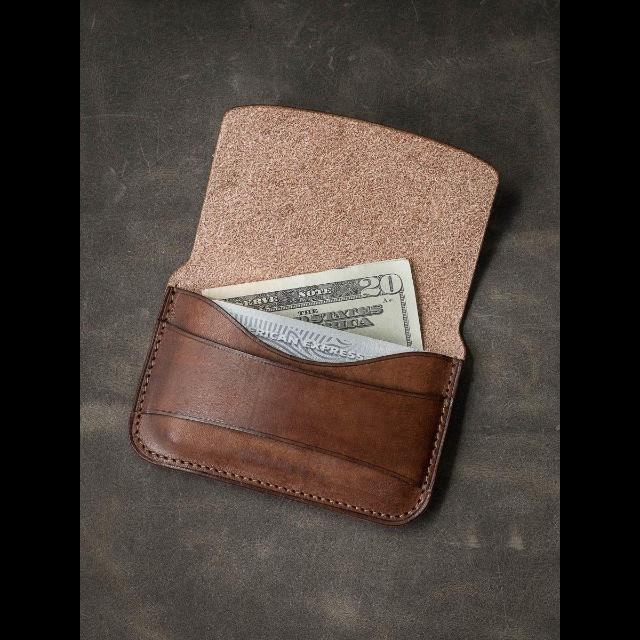wallet: (126, 92, 508, 534)
